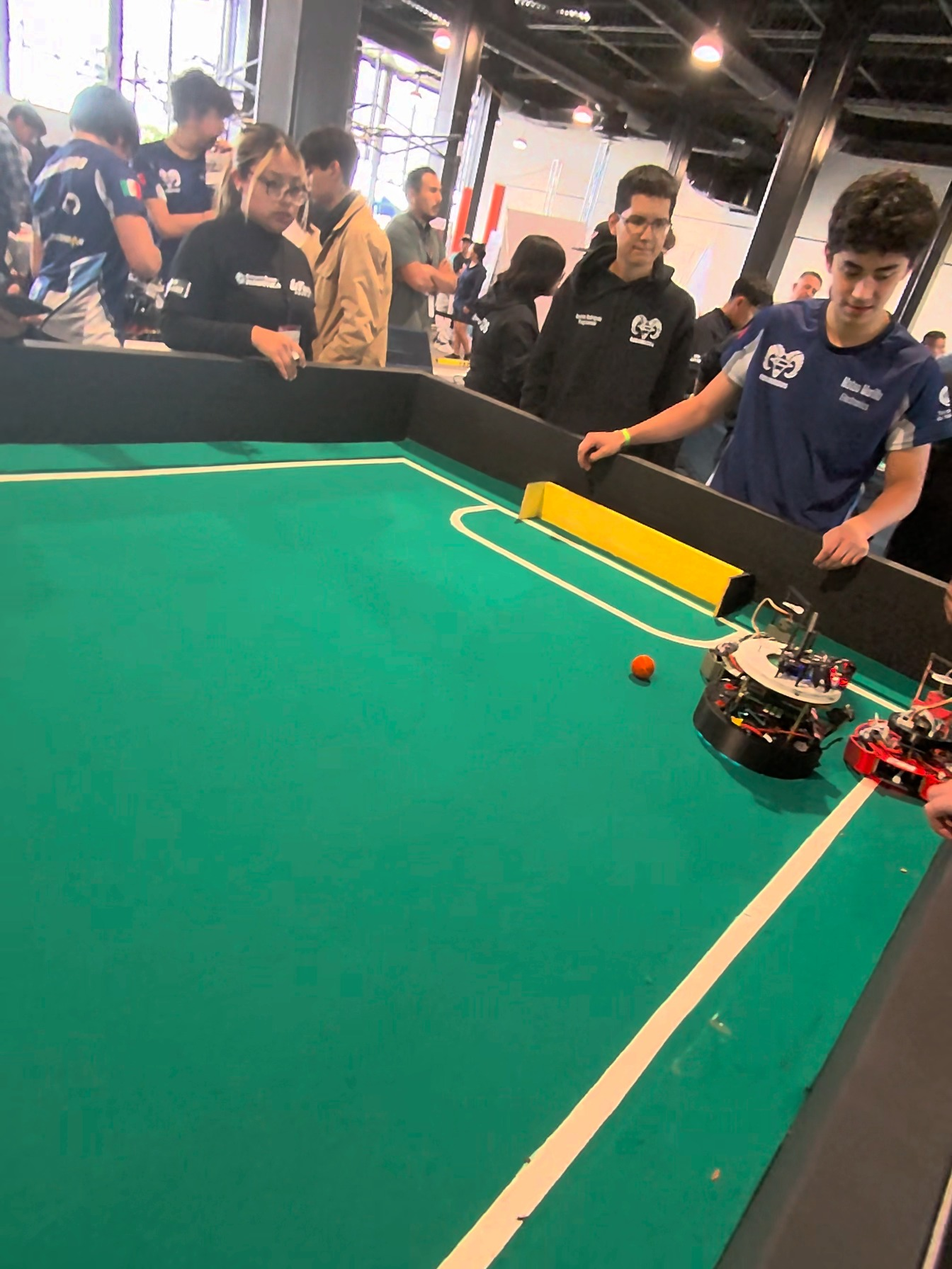Robot: (687, 595, 859, 796), (846, 651, 952, 805)
pelota: (629, 649, 657, 680)
